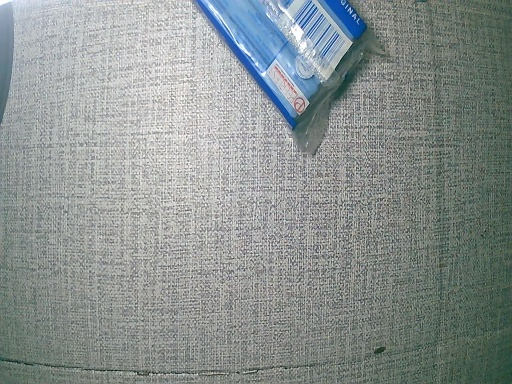plastic: (188, 1, 384, 159)
